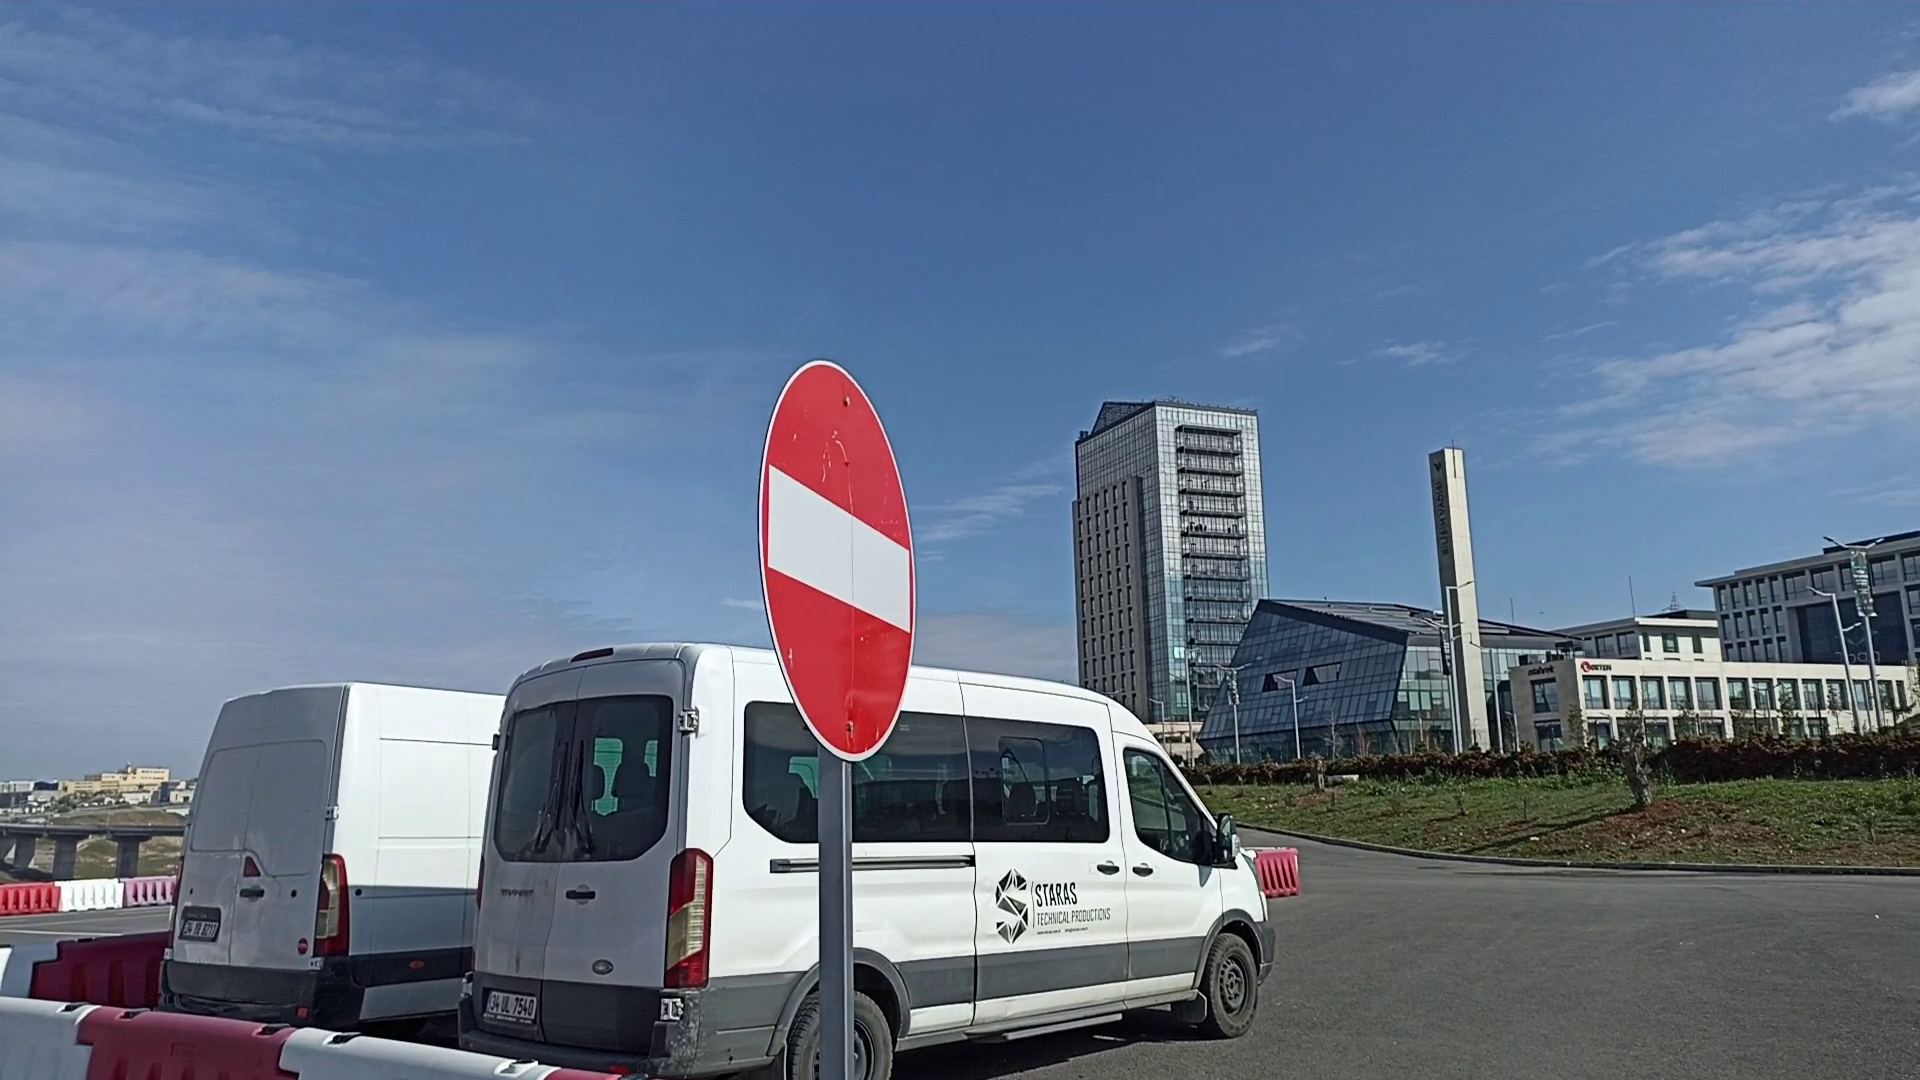noentryway: (756, 351, 914, 764)
